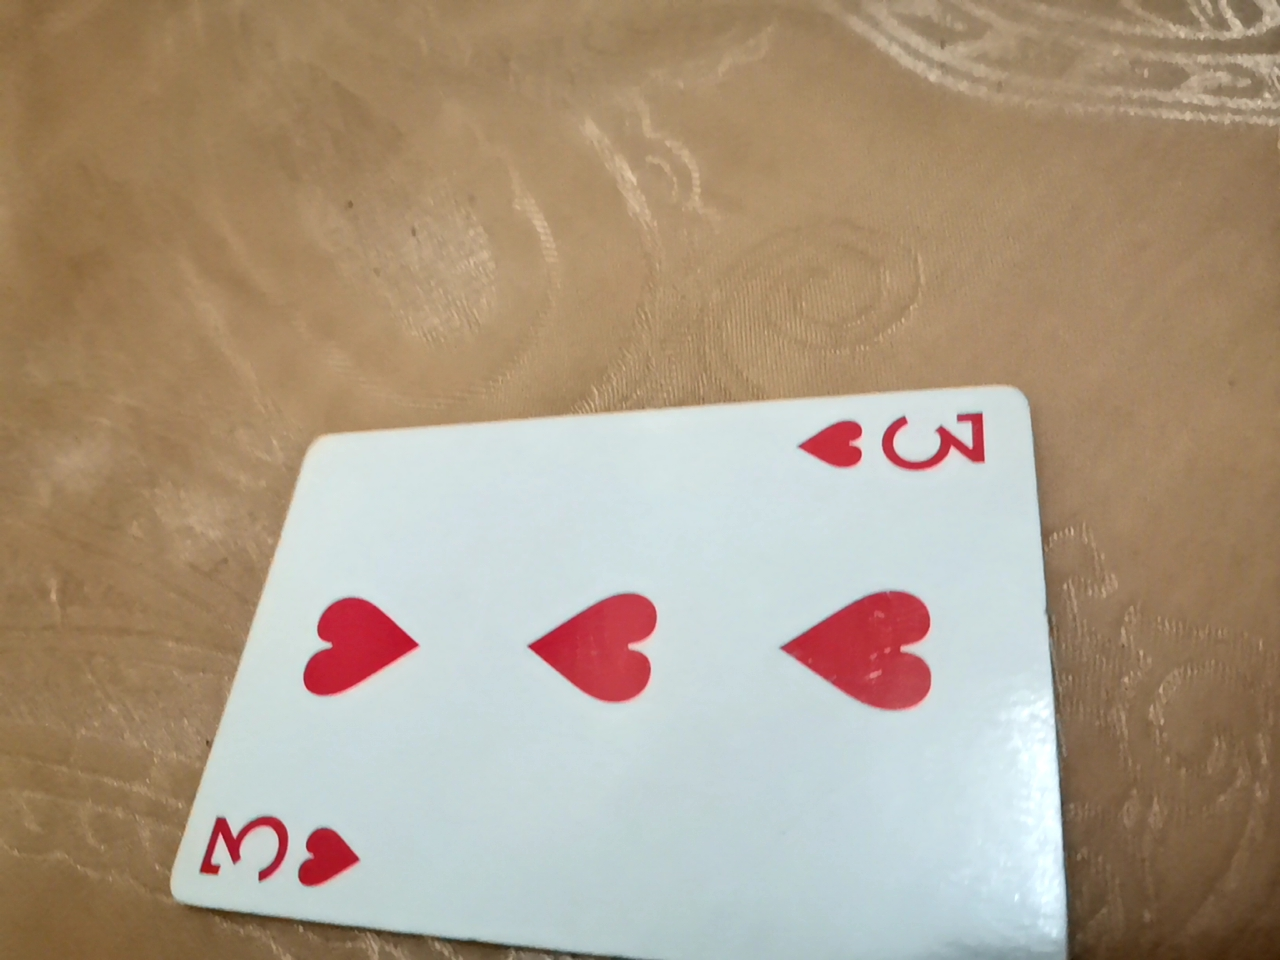hx 3: (132, 418, 1026, 952)
